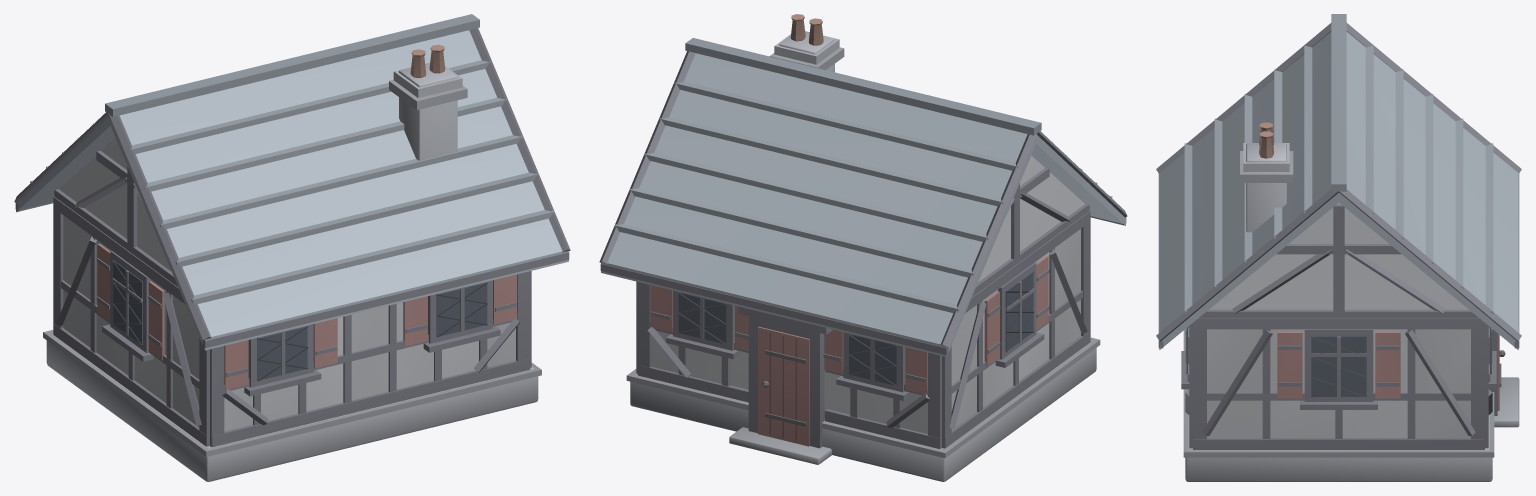
File: cottage_frost.gltf
3 renders of one model, left to right at view 1: azimuth 30°, elevation 25°; view 2: azimuth 150°, elevation 25°; view 3: azimuth 270°, elevation 25°, orthographic. The views are drawn at different scales.
Visible parts, largest first — view 1: Body; view 2: Body; view 3: Body.
Boxes of the visible parts, bbox=[...] form: Body: bbox=[14, 14, 570, 481]; Body: bbox=[599, 14, 1127, 481]; Body: bbox=[1156, 14, 1521, 481].
Size of the model in its own units: 6.97 by 6.12 by 6.32.
